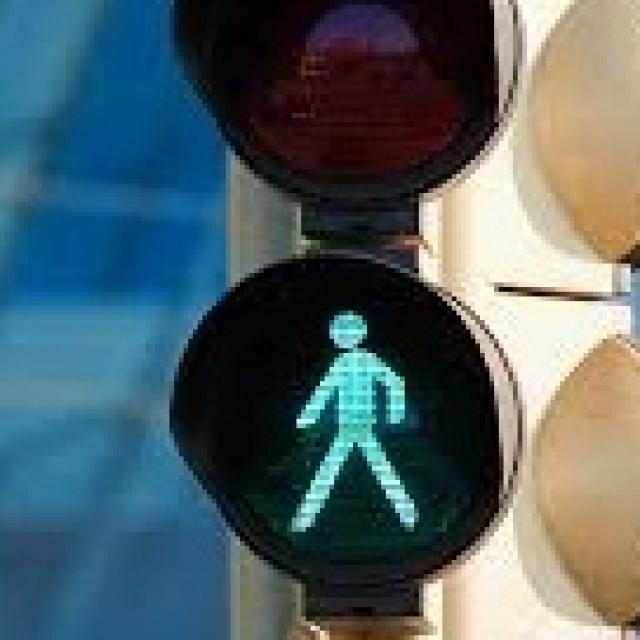geen-crossing: (273, 287, 423, 555)
